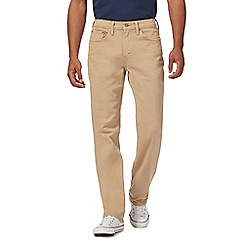jeans: (82, 16, 178, 222)
